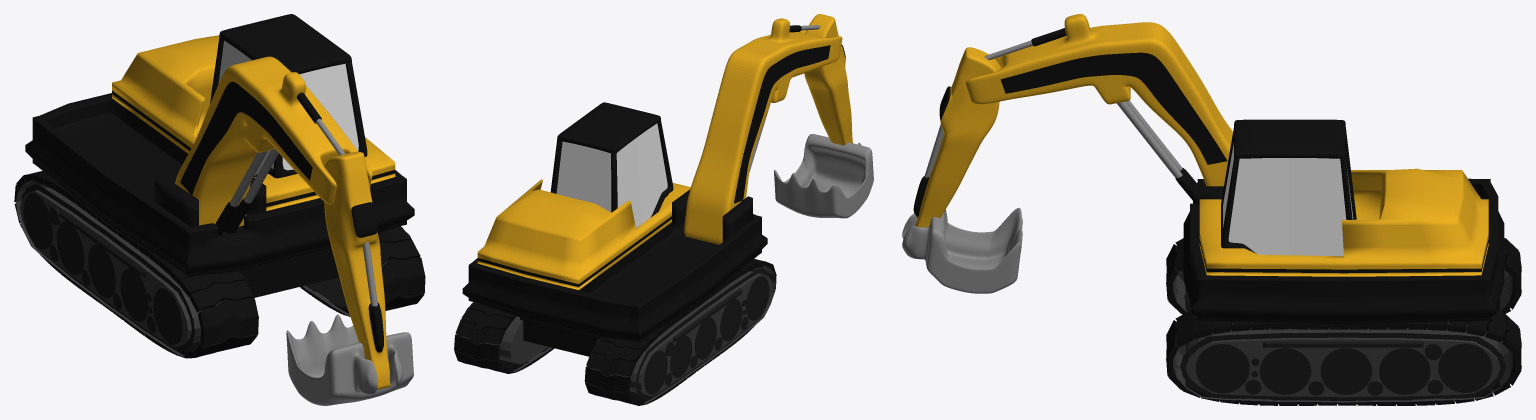
The model's file is Excavator simples.fbx.
3 renders of one model, left to right at view 1: azimuth 30°, elevation 25°; view 2: azimuth 150°, elevation 25°; view 3: azimuth 270°, elevation 25°, orthographic. The views are drawn at different scales.
Parts seen in each view (by area): view 1: Cube, Cube.001, tank wheel, Cube.002, Cube.003, tank_track._R, Cube.005, tank_track_L, Plane.001, Cube.004, tank wheel.001; view 2: Cube, Cube.001, tank wheel, Plane.001, Cube.003, Cube.005, tank_track._R, Cube.002, tank_track_L, Cube.004, tank wheel.001; view 3: Cube, tank wheel.001, Cube.001, Plane.001, Cube.003, Cube.002, tank_track_L, Cube.005, tank_track._R, tank wheel.
Boxes of the visible parts, bbox=[...] form: Cube: bbox=[25, 35, 414, 277]; Cube.001: bbox=[175, 56, 372, 235]; tank wheel: bbox=[16, 179, 253, 356]; Cube.002: bbox=[324, 152, 390, 389]; Cube.003: bbox=[286, 314, 413, 405]; tank_track._R: bbox=[14, 171, 258, 358]; Cube.005: bbox=[210, 14, 367, 178]; tank_track_L: bbox=[300, 226, 425, 316]; Plane.001: bbox=[218, 40, 358, 175]; Cube.004: bbox=[238, 248, 338, 297]; tank wheel.001: bbox=[302, 232, 419, 315]; Cube: bbox=[462, 179, 767, 342]; Cube.001: bbox=[684, 18, 842, 244]; tank wheel: bbox=[587, 265, 775, 403]; Plane.001: bbox=[556, 123, 667, 227]; Cube.003: bbox=[774, 134, 873, 218]; Cube.005: bbox=[550, 102, 673, 216]; tank_track._R: bbox=[584, 259, 776, 405]; Cube.002: bbox=[804, 14, 852, 145]; tank_track_L: bbox=[454, 302, 554, 373]; Cube.004: bbox=[520, 317, 600, 356]; tank wheel.001: bbox=[456, 307, 551, 371]; Cube: bbox=[1183, 168, 1504, 324]; tank wheel.001: bbox=[1173, 322, 1512, 402]; Cube.001: bbox=[965, 14, 1232, 203]; Plane.001: bbox=[1223, 143, 1353, 256]; Cube.003: bbox=[902, 208, 1022, 293]; Cube.002: bbox=[913, 47, 1001, 227]; tank_track_L: bbox=[1166, 310, 1521, 405]; Cube.005: bbox=[1221, 119, 1356, 253]; tank_track._R: bbox=[1166, 238, 1521, 314]; tank wheel: bbox=[1173, 269, 1512, 312].
Size of the model in its own units: 739 by 971 by 1765.
